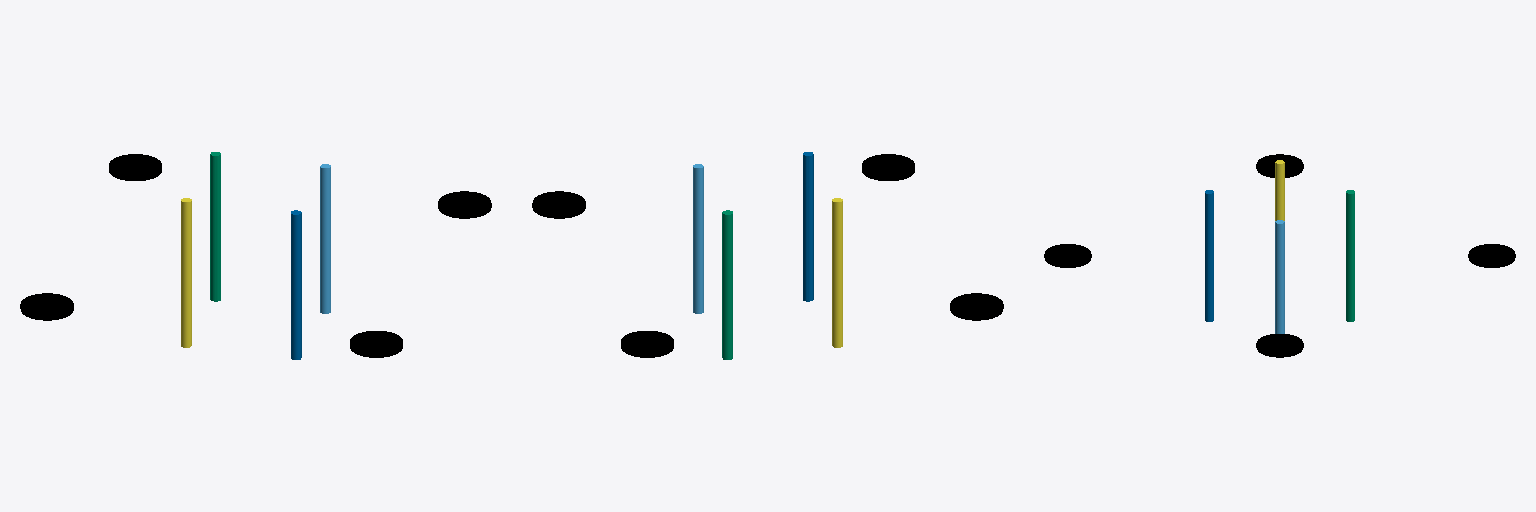
The robot description file, URDF, robot "simple_drone":
<?xml version="1.0"?>
<!-- citation: https://chatgpt.com/share/69225b4b-9c74-8001-9a1d-5c5687b5f0d7 -->
<robot name="simple_drone" xmlns:sensor="http://playerstage.sourceforge.net/gazebo/xmlschema/#sensor">

  <!-- Base link -->
  <link name="base_link">
    <inertial>
      <origin xyz="0 0 0"/>
      <mass value="1.0"/>
      <inertia 
        ixx="0.02" ixy="0.0" ixz="0.0"
        iyy="0.02" iyz="0.0"
        izz="0.04"/>
    </inertial>
    <visual>
      <origin xyz="0 0 0" rpy="0 0 0"/>
      <geometry>
        <mesh filename="./drone.obj" scale="1 1 1"/>
      </geometry>
      <material name="gray">
        <color rgba="0.5 0.5 0.5 1"/>
      </material>
    </visual>
    <collision>
      <origin xyz="0 0 0" rpy="0 0 0"/>
      <geometry>
        <box size ="0.3 0.3 0.1"/>
      </geometry>
    </collision>
  </link>

  <!-- Arms and rotors -->
  <link name="arm_front">
    <visual>
      <origin xyz="0.15 0 0"/>
      <geometry>
        <cylinder length="0.3" radius="0.01"/>
      </geometry>
    </visual>
  </link>

  <link name="arm_left">
    <visual>
      <origin xyz="0 0.15 0"/>
      <geometry>
        <cylinder length="0.3" radius="0.01"/>
      </geometry>
    </visual>
  </link>

  <link name="arm_back">
    <visual>
      <origin xyz="-0.15 0 0"/>
      <geometry>
        <cylinder length="0.3" radius="0.01"/>
      </geometry>
    </visual>
  </link>

  <link name="arm_right">
    <visual>
      <origin xyz="0 -0.15 0"/>
      <geometry>
        <cylinder length="0.3" radius="0.01"/>
      </geometry>
    </visual>
  </link>

  <!-- Rotors -->
  <link name="rotor_front">
    <visual>
      <origin xyz="0.3 0 0"/>
      <geometry>
        <cylinder radius="0.05" length="0.01"/>
      </geometry>
      <material name="black">
        <color rgba="0 0 0 1"/>
      </material>
    </visual>
  </link>

  <link name="rotor_left">
    <visual>
      <origin xyz="0 0.3 0"/>
      <geometry>
        <cylinder radius="0.05" length="0.01"/>
      </geometry>
      <material name="black">
        <color rgba="0 0 0 1"/>
      </material>
    </visual>
  </link>

  <link name="rotor_back">
    <visual>
      <origin xyz="-0.3 0 0"/>
      <geometry>
        <cylinder radius="0.05" length="0.01"/>
      </geometry>
      <material name="black">
        <color rgba="0 0 0 1"/>
      </material>
    </visual>
  </link>

  <link name="rotor_right">
    <visual>
      <origin xyz="0 -0.3 0"/>
      <geometry>
        <cylinder radius="0.05" length="0.01"/>
      </geometry>
      <material name="black">
        <color rgba="0 0 0 1"/>
      </material>
    </visual>
  </link>

  <!-- Fixed joints from base to arms -->
  <joint name="base_to_arm_front" type="fixed">
    <parent link="base_link"/>
    <child link="arm_front"/>
  </joint>

  <joint name="base_to_arm_left" type="fixed">
    <parent link="base_link"/>
    <child link="arm_left"/>
  </joint>

  <joint name="base_to_arm_back" type="fixed">
    <parent link="base_link"/>
    <child link="arm_back"/>
  </joint>

  <joint name="base_to_arm_right" type="fixed">
    <parent link="base_link"/>
    <child link="arm_right"/>
  </joint>

  <!-- Rotors attached with continuous joints (no physical motor here, user applies torque) -->
  <joint name="rotor_front_joint" type="continuous">
    <parent link="arm_front"/>
    <child link="rotor_front"/>
    <origin xyz="0.15 0 0"/>
    <axis xyz="0 0 1"/>
  </joint>

  <joint name="rotor_left_joint" type="continuous">
    <parent link="arm_left"/>
    <child link="rotor_left"/>
    <origin xyz="0 0.15 0"/>
    <axis xyz="0 0 1"/>
  </joint>

  <joint name="rotor_back_joint" type="continuous">
    <parent link="arm_back"/>
    <child link="rotor_back"/>
    <origin xyz="-0.15 0 0"/>
    <axis xyz="0 0 1"/>
  </joint>

  <joint name="rotor_right_joint" type="continuous">
    <parent link="arm_right"/>
    <child link="rotor_right"/>
    <origin xyz="0 -0.15 0"/>
    <axis xyz="0 0 1"/>
  </joint>

</robot>

--- What the picture shows (computed from the rendered views, not written in the file) ---
3 views of the same robot in one strip: view 1: azimuth 30°, elevation 25°; view 2: azimuth 150°, elevation 25°; view 3: azimuth 270°, elevation 25° (orthographic).
Robot: simple_drone — 9 links, 8 joints (4 continuous, 4 fixed); root link base_link; default pose: all joints at 0.
Visible links, largest first — view 1: arm_front, arm_back, arm_left, arm_right, rotor_front, rotor_back, rotor_left, rotor_right; view 2: arm_front, arm_back, arm_left, arm_right, rotor_front, rotor_back, rotor_left, rotor_right; view 3: arm_left, arm_right, arm_front, rotor_left, rotor_right, rotor_front, rotor_back, arm_back.
Link boxes in pixels (x1,y1,x2,y2): arm_front: [320, 164, 330, 313]; arm_back: [181, 198, 191, 347]; arm_left: [210, 152, 220, 301]; arm_right: [291, 210, 301, 359]; rotor_front: [438, 191, 491, 218]; rotor_back: [20, 293, 73, 320]; rotor_left: [109, 154, 161, 180]; rotor_right: [350, 331, 402, 357]; arm_front: [693, 164, 703, 313]; arm_back: [832, 198, 842, 347]; arm_left: [722, 210, 732, 359]; arm_right: [803, 152, 813, 301]; rotor_front: [532, 191, 585, 218]; rotor_back: [950, 293, 1003, 320]; rotor_left: [621, 331, 673, 357]; rotor_right: [862, 154, 914, 180]; arm_left: [1346, 190, 1354, 321]; arm_right: [1205, 190, 1213, 321]; arm_front: [1275, 220, 1284, 333]; rotor_left: [1468, 244, 1515, 267]; rotor_right: [1044, 244, 1091, 267]; rotor_front: [1256, 334, 1303, 357]; rotor_back: [1256, 154, 1303, 177]; arm_back: [1275, 160, 1284, 220].
Size in the robot's own frame: 1 by 1 by 0.3 metres.
0 mesh visuals loaded from 1 distinct referenced files (none loaded); not drawn: 1 (reference not matched to a file when rendering).
